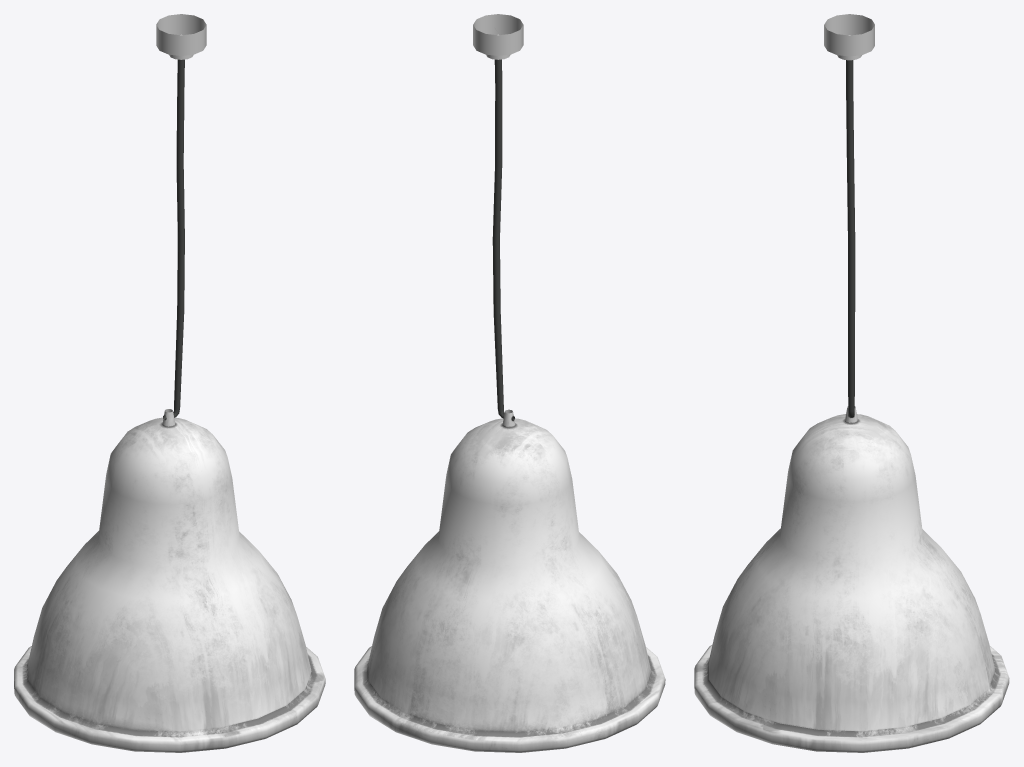
3 renders of one model, left to right at view 1: azimuth 30°, elevation 25°; view 2: azimuth 150°, elevation 25°; view 3: azimuth 270°, elevation 25°, orthographic.
Visible parts, largest first — view 1: SM_Light_bulb_M_Lamp_0, SM_Light_M_Lamp_0; view 2: SM_Light_bulb_M_Lamp_0, SM_Light_M_Lamp_0; view 3: SM_Light_bulb_M_Lamp_0, SM_Light_M_Lamp_0.
Boxes of the visible parts, x1,y1,x2,y2 form: SM_Light_bulb_M_Lamp_0: (14, 409, 325, 752); SM_Light_M_Lamp_0: (156, 14, 206, 420); SM_Light_bulb_M_Lamp_0: (354, 409, 665, 752); SM_Light_M_Lamp_0: (473, 14, 523, 420); SM_Light_bulb_M_Lamp_0: (694, 406, 1009, 752); SM_Light_M_Lamp_0: (824, 14, 874, 417).
Bounding box in the file's own units: 0.7603 × 1.78 × 0.7581.
Materials: 1 (1 with a texture image).
